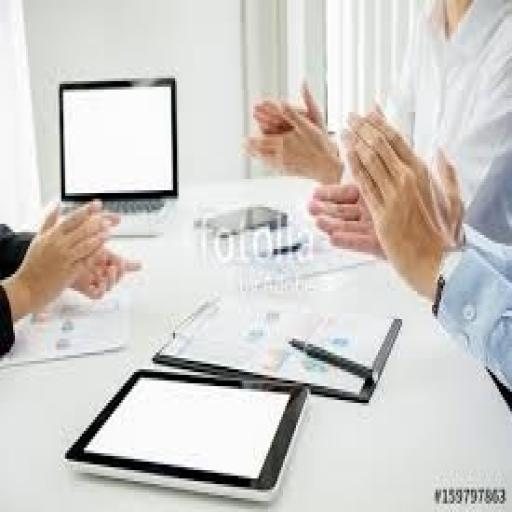clapping: (240, 0, 510, 400), (0, 126, 197, 386)
